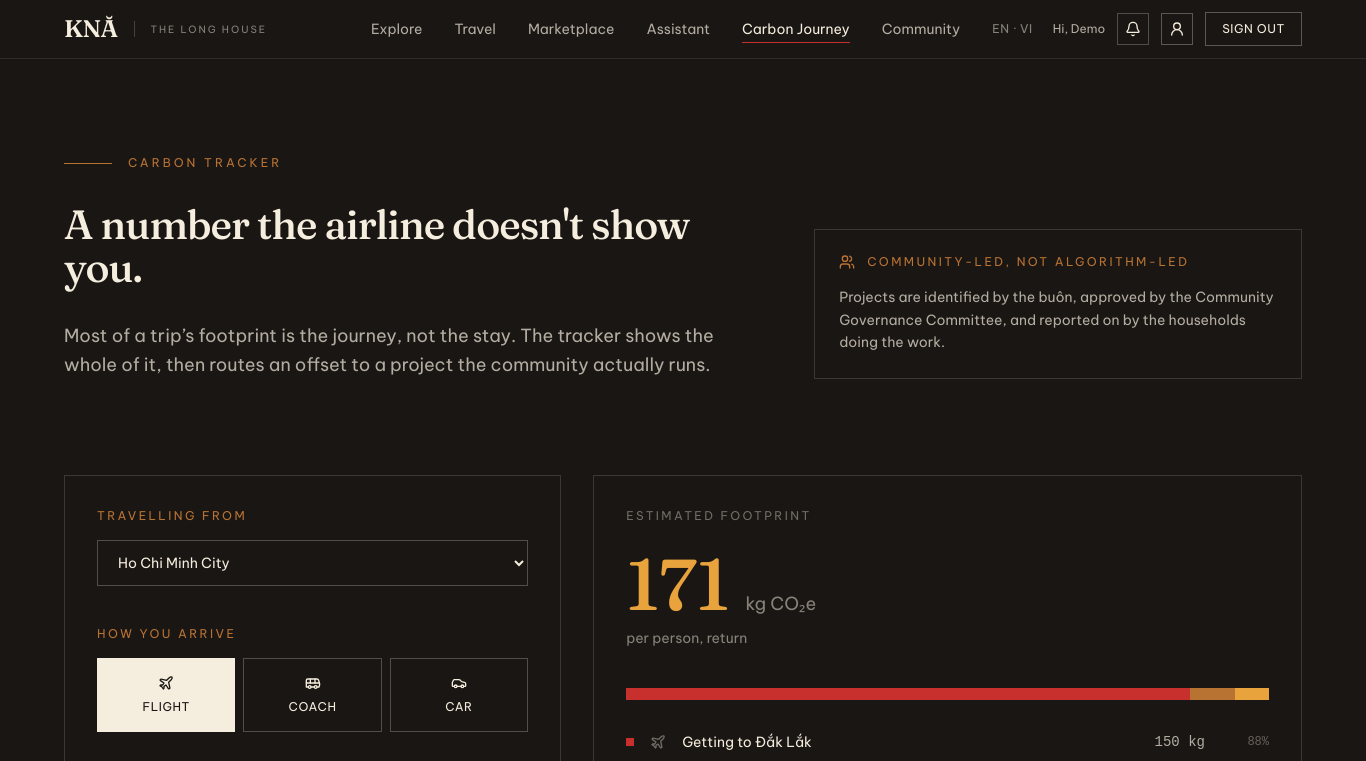
CarbonTracker offsets › donation preview › shows the adjusted share for a long-haul guest
Select "Europe" in the dropdown labelled "Travelling from": (313, 563) [97,540,528,586]
(page scrolled)
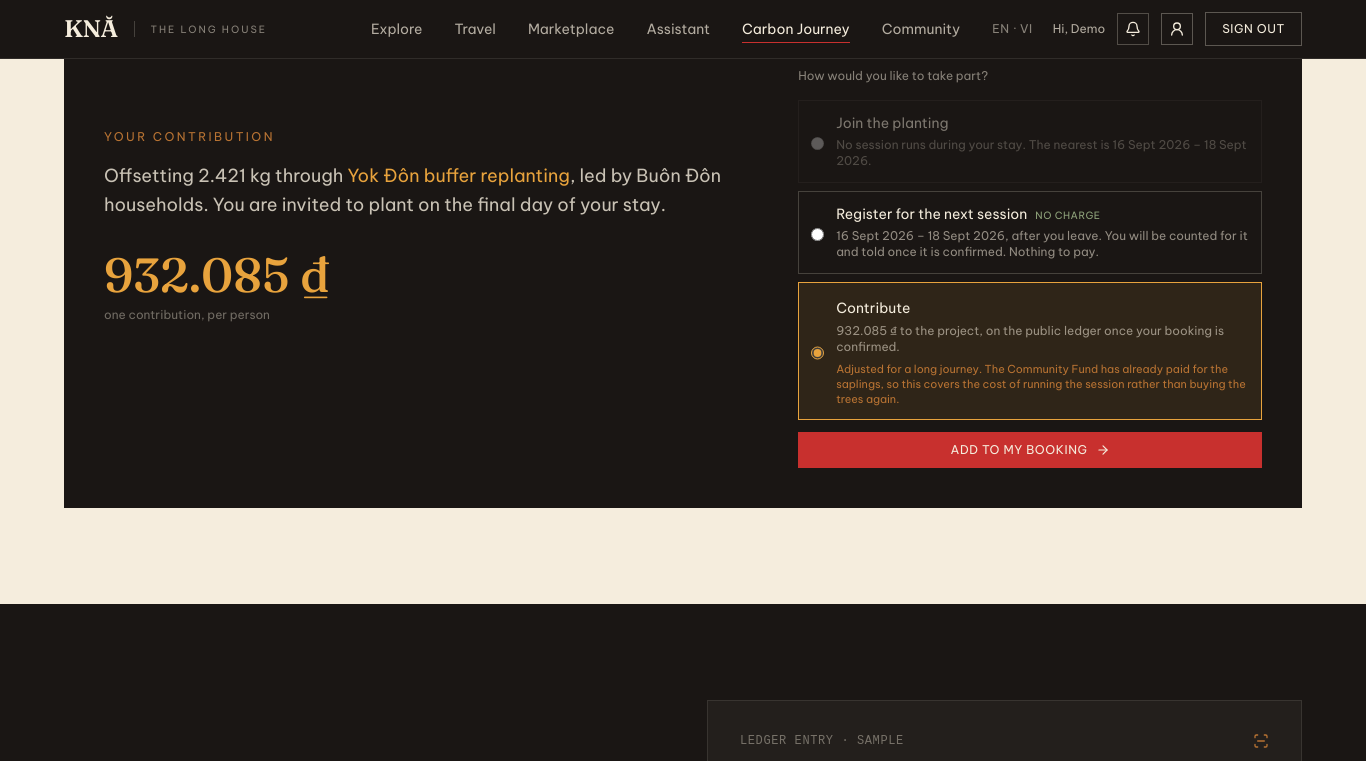
Expected: the text "932.085 ₫" is shown, [104,245,330,304]
Expected: the text "Adjusted for a long journey" is shown, [836,362,1246,406]
